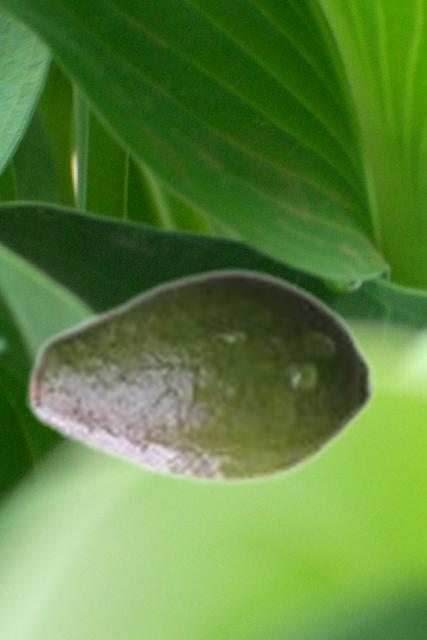avocado: (25, 266, 377, 487)
